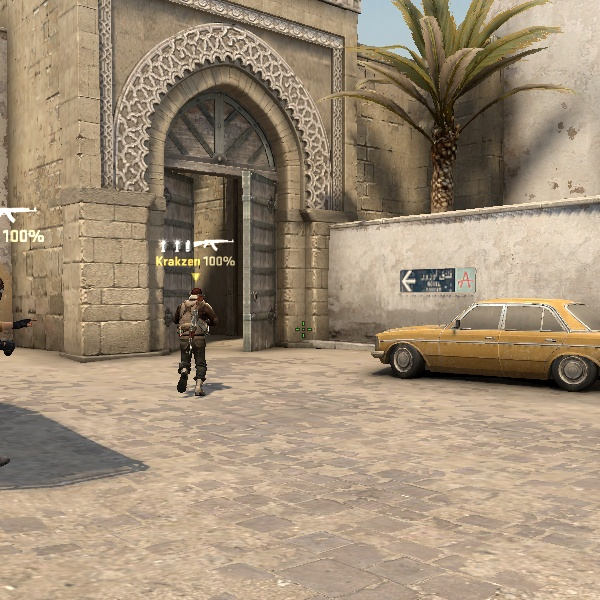t_body: (166, 283, 228, 396)
t_head: (187, 285, 209, 307)
